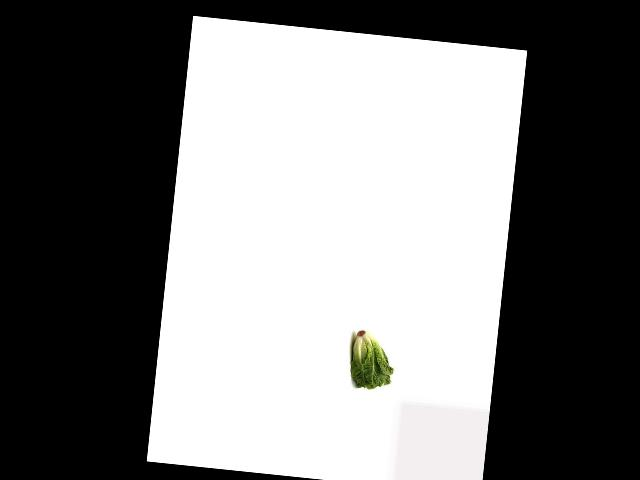lettuce: (346, 326, 397, 391)
